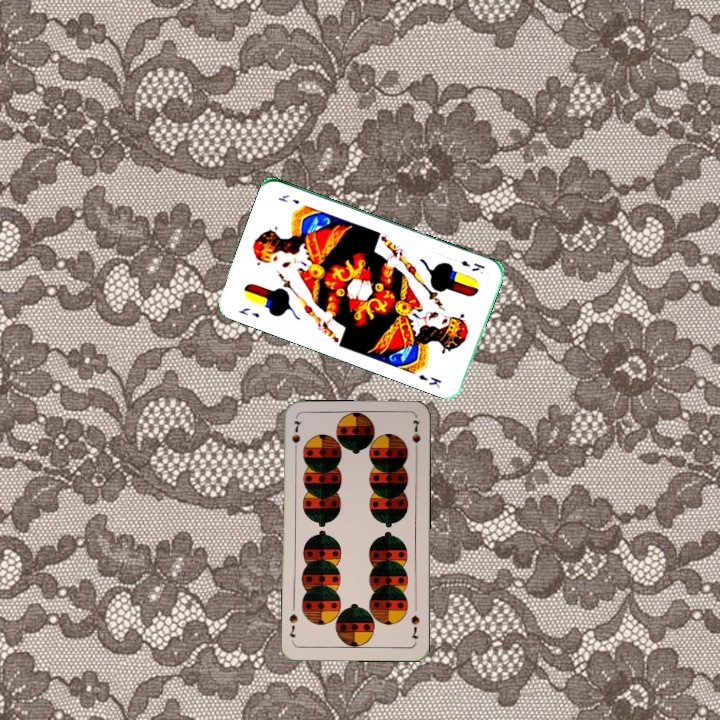EK: (457, 256, 487, 274), (235, 304, 262, 320)
S7: (288, 416, 304, 456), (407, 611, 422, 642)
